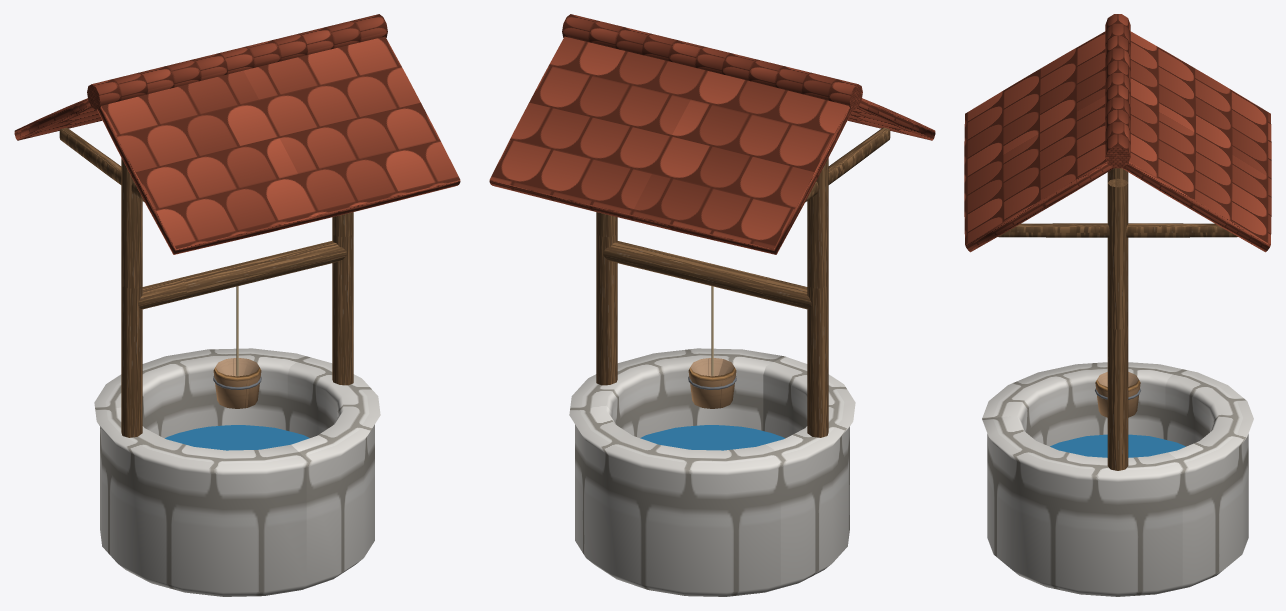
Rendered from prop_well.glb.
3 views of the same model, side by side, from view 1: azimuth 30°, elevation 25°; view 2: azimuth 150°, elevation 25°; view 3: azimuth 270°, elevation 25° (orthographic). The views are drawn at different scales.
Visible parts, largest first — view 1: prop_well, prop_well_stone_blocks; view 2: prop_well, prop_well_stone_blocks; view 3: prop_well, prop_well_stone_blocks.
Boxes of the visible parts, bbox=[...] form: prop_well: bbox=[14, 14, 460, 450]; prop_well_stone_blocks: bbox=[94, 348, 380, 596]; prop_well: bbox=[489, 14, 935, 450]; prop_well_stone_blocks: bbox=[569, 348, 855, 596]; prop_well: bbox=[964, 14, 1271, 470]; prop_well_stone_blocks: bbox=[982, 362, 1253, 596].
Bounding box in the file's own units: 1.8 × 2.94 × 1.76.
7 materials, 4 textured.
